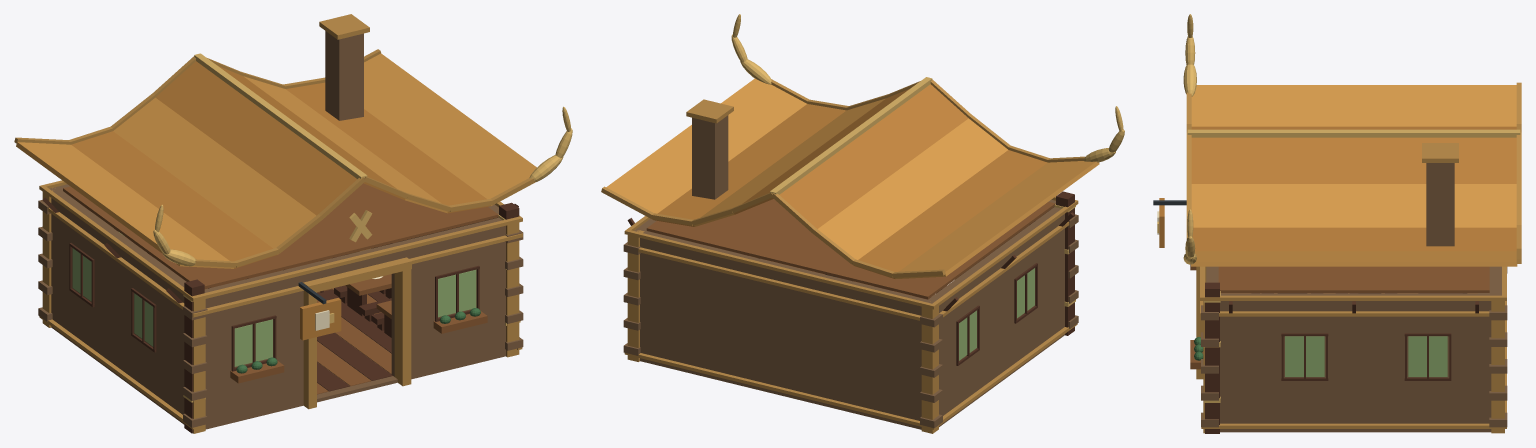
File: Tavern.glb
3 views of the same model, side by side, from view 1: azimuth 30°, elevation 25°; view 2: azimuth 150°, elevation 25°; view 3: azimuth 270°, elevation 25° (orthographic). The views are drawn at different scales.
Visible parts, largest first — view 1: Tavern_002_Side, Tavern_254_ProfileRoof, Tavern_257_ProfileRoof, Tavern_275_ProfileRoof, Tavern_095_Ceiling, Tavern_003_FrontWing, Tavern_040_FrontWing, Tavern_260_ProfileRoof, Tavern_263_ProfileRoof, Tavern_272_ProfileRoof, Tavern_295_KitchenFlue, Tavern_269_ProfileRoof (+29 smaller); view 2: Tavern_001_Rear, Tavern_002_Side, Tavern_254_ProfileRoof, Tavern_095_Ceiling, Tavern_257_ProfileRoof, Tavern_275_ProfileRoof, Tavern_260_ProfileRoof, Tavern_263_ProfileRoof, Tavern_272_ProfileRoof, Tavern_295_KitchenFlue, Tavern_269_ProfileRoof, Tavern_086_RearCourse (+14 smaller); view 3: Tavern_039_Side, Tavern_266_ProfileRoof, Tavern_263_ProfileRoof, Tavern_269_ProfileRoof, Tavern_272_ProfileRoof, Tavern_095_Ceiling, Tavern_275_ProfileRoof, Tavern_278_Ridge, Tavern_295_KitchenFlue, Tavern_088_SideCourse, Tavern_080_SideCourse, Tavern_286_HearthTimber (+10 smaller).
Part boxes in pixels (box(x1,y1,x2,y2)): Tavern_002_Side: box(52, 191, 186, 424); Tavern_254_ProfileRoof: box(155, 61, 356, 215); Tavern_257_ProfileRoof: box(113, 97, 316, 254); Tavern_275_ProfileRoof: box(364, 53, 536, 205); Tavern_095_Ceiling: box(63, 183, 498, 288); Tavern_003_FrontWing: box(204, 265, 312, 428); Tavern_040_FrontWing: box(391, 217, 505, 378); Tavern_260_ProfileRoof: box(71, 131, 277, 268); Tavern_263_ProfileRoof: box(16, 142, 233, 268); Tavern_272_ProfileRoof: box(286, 82, 490, 213); Tavern_295_KitchenFlue: box(325, 31, 363, 120); Tavern_269_ProfileRoof: box(244, 76, 447, 213); Tavern_001_Rear: box(634, 228, 934, 428); Tavern_002_Side: box(926, 207, 1064, 425); Tavern_254_ProfileRoof: box(779, 84, 968, 228); Tavern_095_Ceiling: box(646, 199, 1055, 299); Tavern_257_ProfileRoof: box(818, 118, 1007, 265); Tavern_275_ProfileRoof: box(603, 78, 806, 219); Tavern_260_ProfileRoof: box(854, 150, 1047, 278); Tavern_263_ProfileRoof: box(895, 161, 1099, 278); Tavern_272_ProfileRoof: box(653, 104, 846, 226); Tavern_295_KitchenFlue: box(692, 115, 728, 199); Tavern_269_ProfileRoof: box(694, 98, 885, 226); Tavern_086_RearCourse: box(624, 230, 936, 309); Tavern_039_Side: box(1220, 293, 1500, 432); Tavern_266_ProfileRoof: box(1191, 137, 1516, 183); Tavern_263_ProfileRoof: box(1191, 85, 1516, 126); Tavern_269_ProfileRoof: box(1191, 184, 1516, 227); Tavern_272_ProfileRoof: box(1192, 227, 1516, 251); Tavern_095_Ceiling: box(1218, 266, 1489, 292); Tavern_275_ProfileRoof: box(1191, 251, 1517, 266); Tavern_278_Ridge: box(1187, 129, 1520, 137); Tavern_295_KitchenFlue: box(1426, 163, 1454, 246); Tavern_088_SideCourse: box(1201, 295, 1506, 300); Tavern_080_SideCourse: box(1201, 423, 1506, 428); Tavern_286_HearthTimber: box(1205, 282, 1219, 433).
Bounding box in the file's own units: 39.13 × 22.9 × 29.9.
